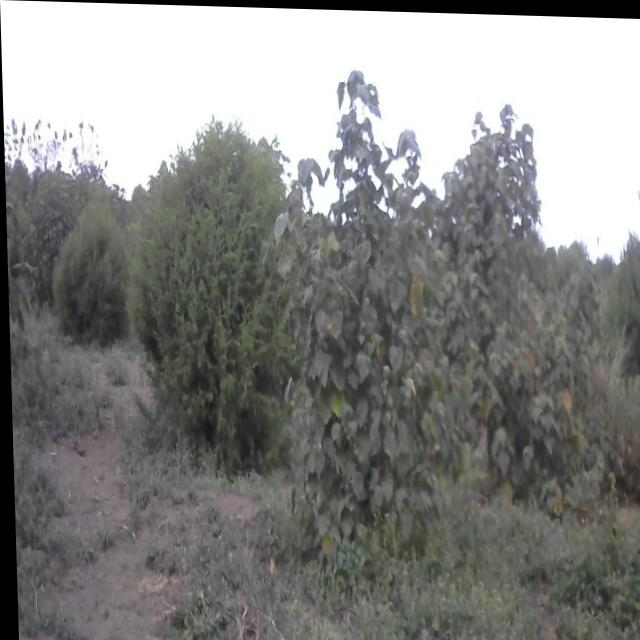cedrus: (127, 117, 293, 465), (48, 193, 128, 342)
other: (280, 69, 453, 587), (438, 65, 611, 503)
